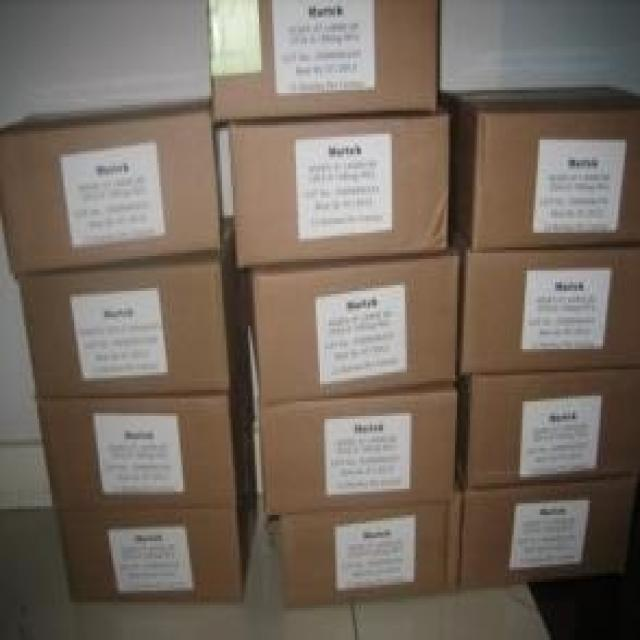box: (16, 215, 246, 398), (37, 327, 255, 510), (0, 96, 222, 273), (57, 430, 258, 603), (227, 114, 449, 268), (245, 252, 458, 405), (440, 88, 638, 252), (446, 220, 638, 373), (208, 0, 440, 124), (259, 384, 458, 515), (278, 479, 462, 608), (456, 462, 638, 589), (455, 368, 638, 486)
